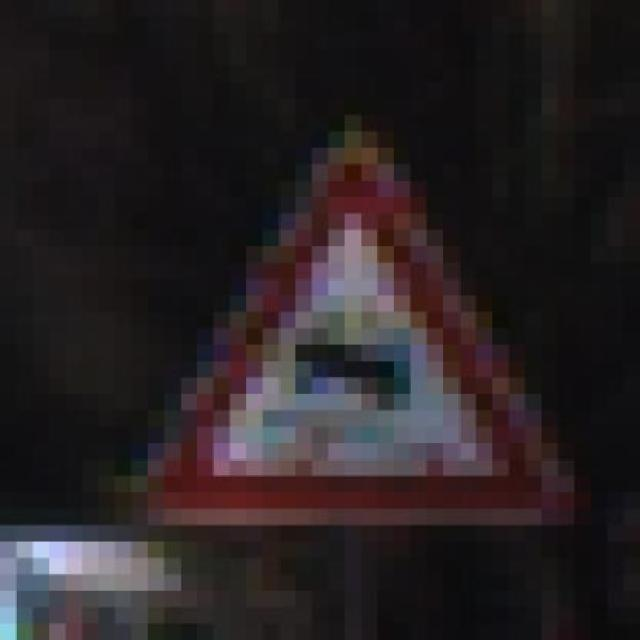Slippery Road Ahead: (126, 115, 586, 558)
